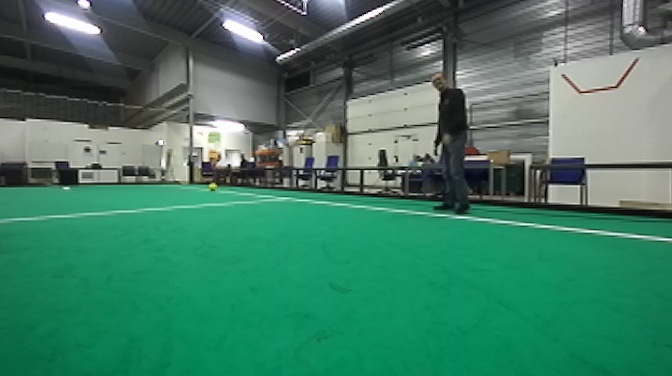ball: (207, 180, 218, 193)
human: (428, 76, 478, 218)
